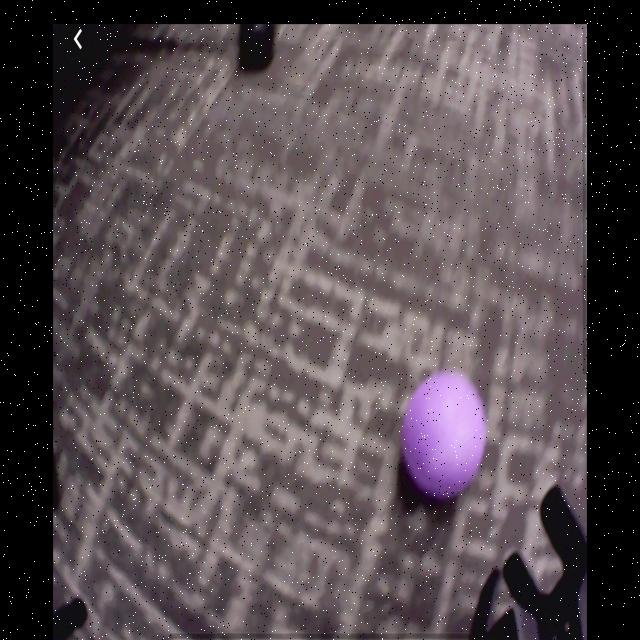ball: (403, 369, 489, 501)
